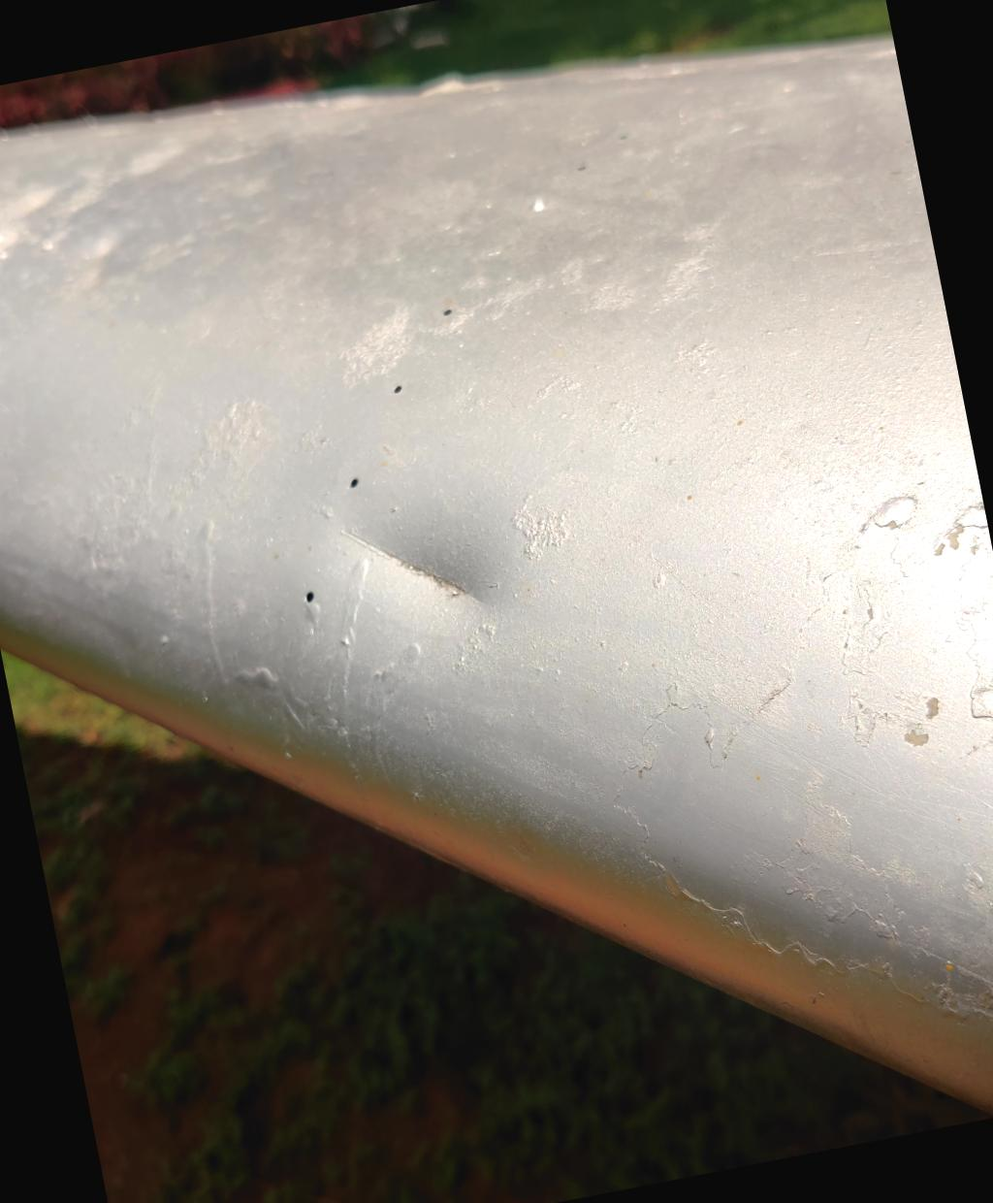dent: (299, 426, 558, 701)
